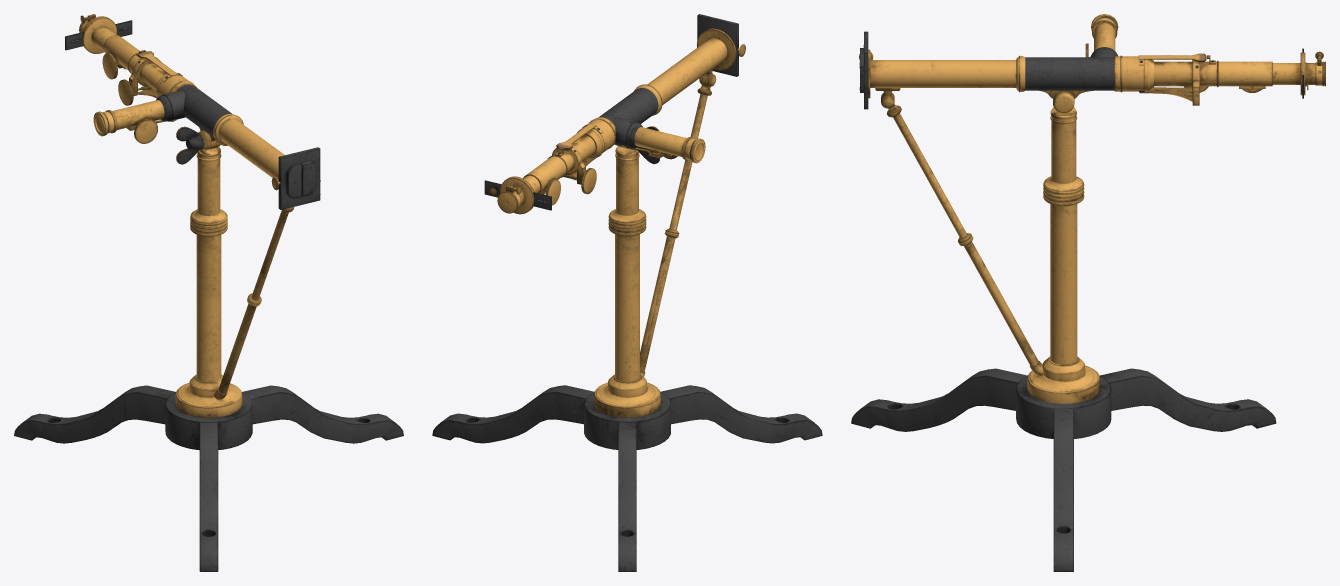
The model's file is Stratascope.gltf.
3 renders of one model, left to right at view 1: azimuth 30°, elevation 25°; view 2: azimuth 150°, elevation 25°; view 3: azimuth 270°, elevation 25°, orthographic. The views are drawn at different scales.
Visible parts, largest first — view 1: Null_3; view 2: Null_3; view 3: Null_3.
Part boxes in pixels (x1,y1,x2,y2): Null_3: [14, 14, 403, 571]; Null_3: [432, 14, 822, 571]; Null_3: [851, 14, 1325, 571].
Bounding box in the file's own units: 133 × 171 × 172.
1 material, 1 textured.
